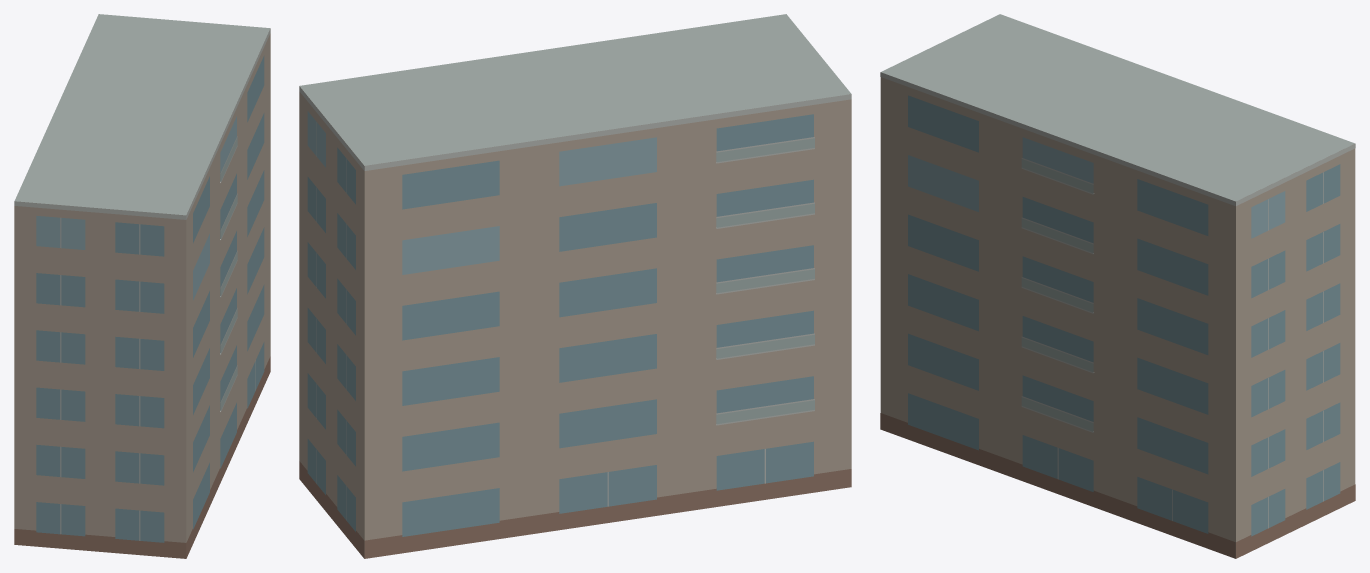
The model's file is survey-upis-32620144.glb.
3 views of the same model, side by side, from view 1: azimuth 30°, elevation 25°; view 2: azimuth 150°, elevation 25°; view 3: azimuth 270°, elevation 25° (orthographic). The views are drawn at different scales.
Parts seen in each view (by area): view 1: survey-upis-32620144.tmp; view 2: survey-upis-32620144.tmp; view 3: survey-upis-32620144.tmp.
Boxes of the visible parts, x1,y1,x2,y2 form: survey-upis-32620144.tmp: [14, 14, 270, 558]; survey-upis-32620144.tmp: [299, 14, 851, 558]; survey-upis-32620144.tmp: [880, 14, 1355, 558].
Bounding box in the file's own units: 20.61 × 18.3 × 22.05.
